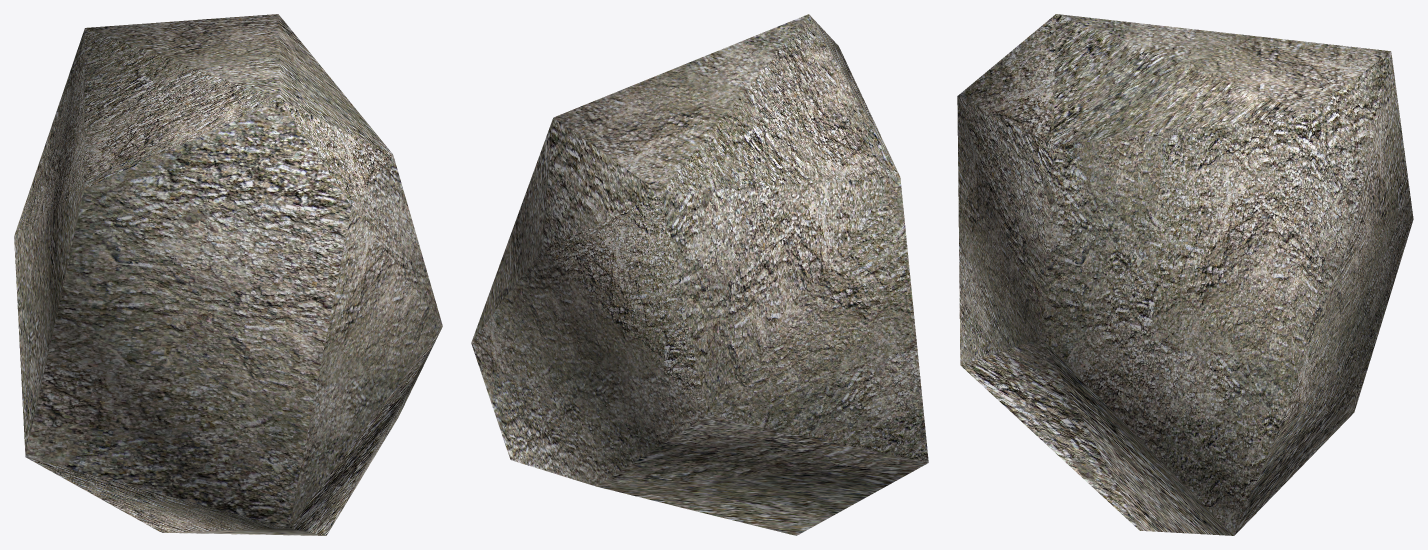
Rendered from boulder_3.dae.
3 views of the same model, side by side, from view 1: azimuth 30°, elevation 25°; view 2: azimuth 150°, elevation 25°; view 3: azimuth 270°, elevation 25° (orthographic). The views are drawn at different scales.
Visible parts, largest first — view 1: bouldercubic8; view 2: bouldercubic8; view 3: bouldercubic8.
Part boxes in pixels (left/top/right/bottom): bouldercubic8: left=14, top=14, right=442, bottom=535; bouldercubic8: left=471, top=14, right=928, bottom=535; bouldercubic8: left=957, top=14, right=1413, bottom=535.
Bounding box in the file's own units: 1.94 × 1.93 × 2.21.
1 material, 1 textured.
